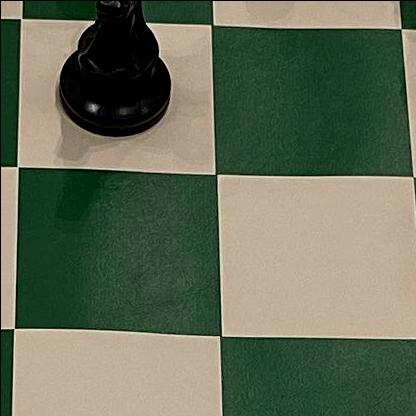black-knight: (29, 0, 197, 148)
